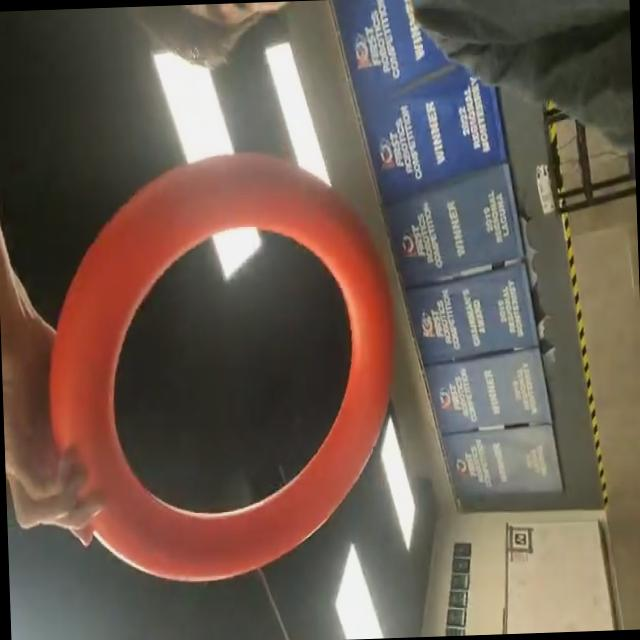note: (36, 142, 406, 594)
